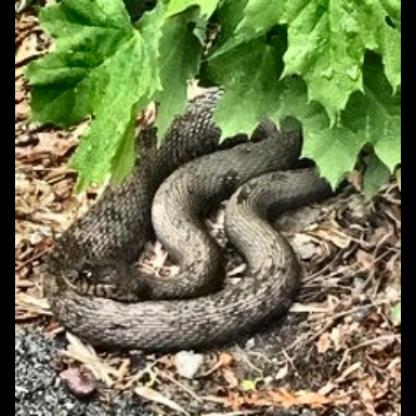Snake: (54, 36, 355, 384)
